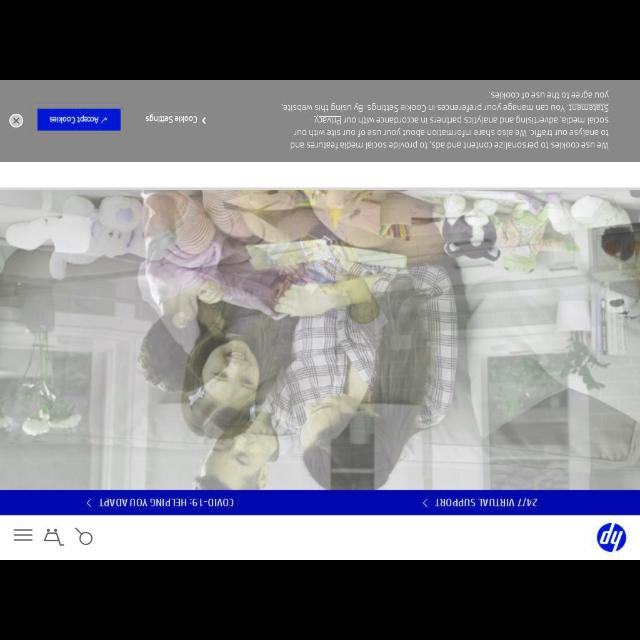button: (10, 115, 24, 129)
icon: (74, 526, 94, 546), (44, 529, 64, 547), (14, 526, 32, 542), (202, 114, 208, 126), (422, 498, 428, 508), (86, 499, 92, 508), (101, 118, 109, 124), (13, 118, 19, 125)
image: (1, 188, 639, 490), (596, 522, 626, 554)
text: (280, 90, 610, 150), (98, 497, 234, 508), (434, 498, 538, 510), (145, 112, 197, 124), (50, 114, 100, 124)
textbutton: (38, 108, 120, 130)
